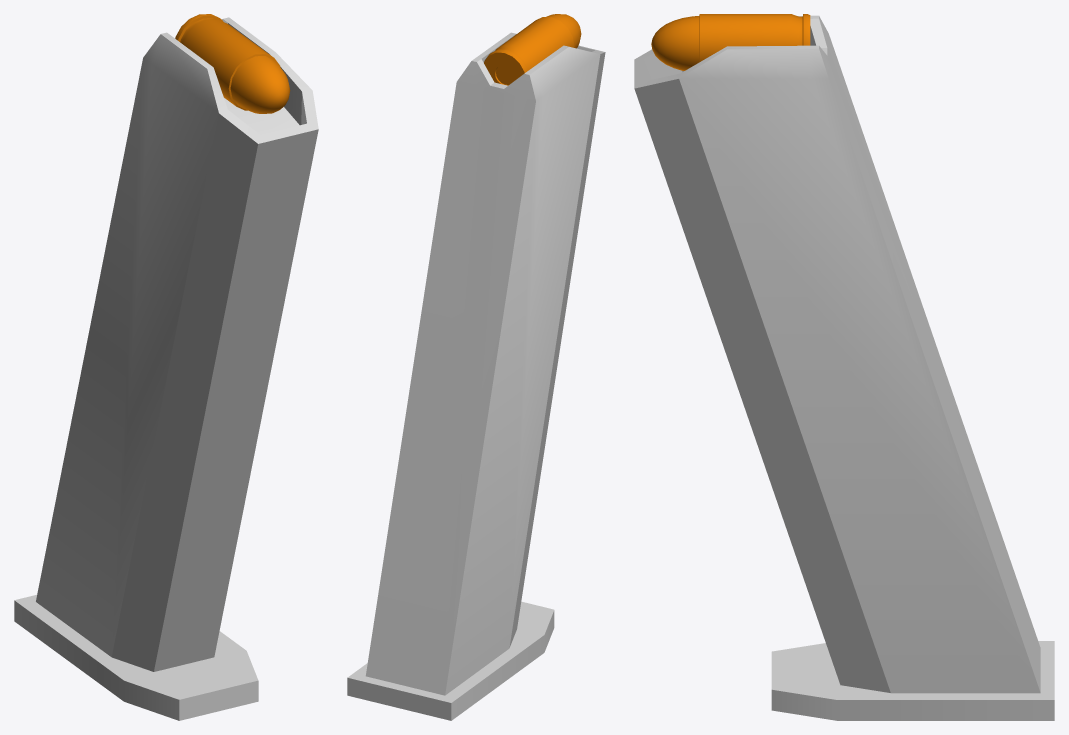
The model's file is pistol-a-mag-full.fbx.
3 renders of one model, left to right at view 1: azimuth 30°, elevation 25°; view 2: azimuth 150°, elevation 25°; view 3: azimuth 270°, elevation 25°, orthographic. The views are drawn at different scales.
Parts seen in each view (by area): view 1: Pistol A Mag, Pistol A Mag Bullet; view 2: Pistol A Mag, Pistol A Mag Bullet; view 3: Pistol A Mag, Pistol A Mag Bullet.
Part boxes in pixels (x1,y1,x2,y2): Pistol A Mag: (14,17,318,720); Pistol A Mag Bullet: (175,14,290,113); Pistol A Mag: (347,32,605,720); Pistol A Mag Bullet: (484,14,581,85); Pistol A Mag: (634,15,1054,720); Pistol A Mag Bullet: (651,14,810,70).
Bounding box in the file's own units: 2.18 × 11.6 × 6.55.
